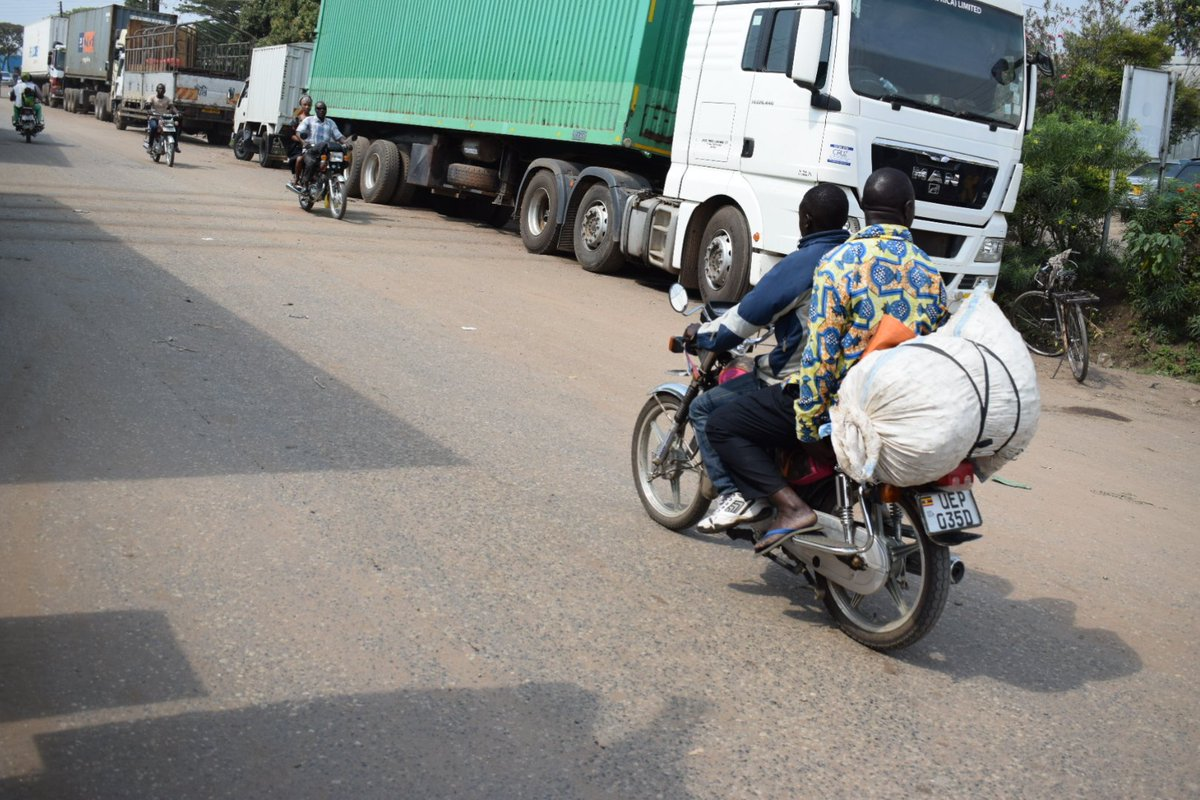motorbike: (618, 213, 995, 669)
